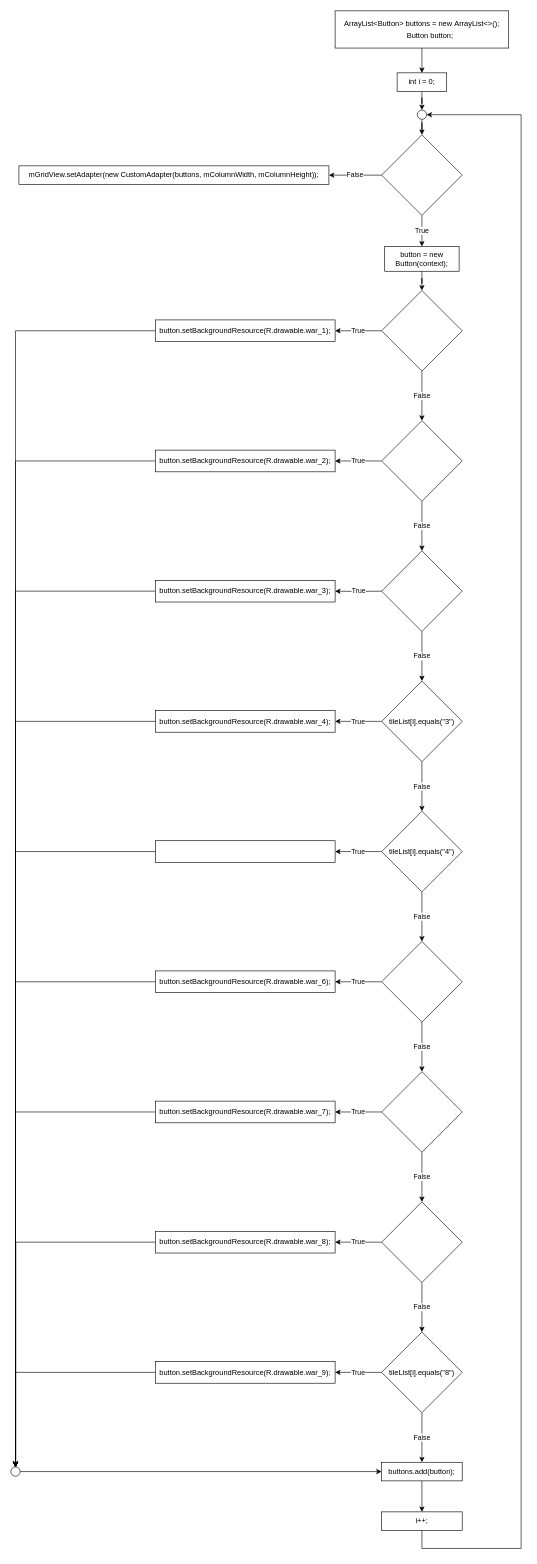
Some shapes in this 537 by 1564 pixel diagram are drawn without their labels. The centre of each missing label's shape, as x and y in pixels:
button.setBackgroundResource(R.drawable.war_5);: point (245, 851)
i < tileList.length: point (421, 174)
tileList[i].equals("0"): point (421, 330)
tileList[i].equals("1"): point (421, 460)
tileList[i].equals("2"): point (421, 590)
tileList[i].equals("5"): point (421, 981)
tileList[i].equals("6"): point (421, 1111)
tileList[i].equals("7"): point (421, 1241)
